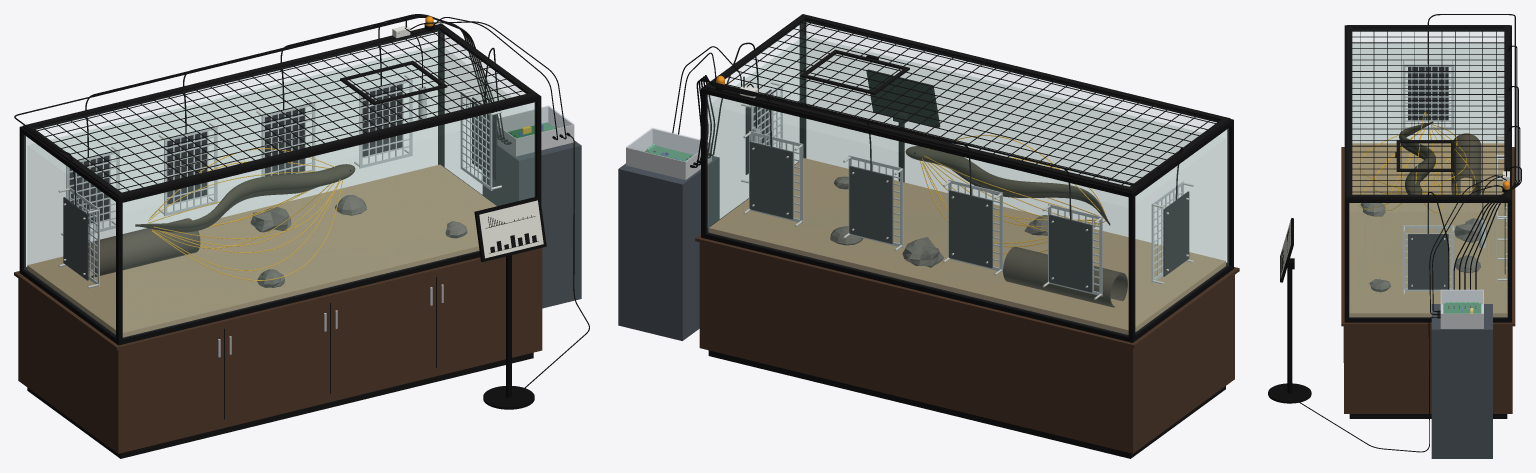
File: eel-habitat-harvester.obj
The picture shows the model from 3 angles, left to right: view 1: azimuth 30°, elevation 25°; view 2: azimuth 150°, elevation 25°; view 3: azimuth 270°, elevation 25°; orthographic projection. The views are drawn at different scales.
Visible parts, largest first — view 1: Habitat.Glass_panels, Habitat.Cabinet, Habitat.Substrate, Habitat.Water, Habitat.Lid_with_feeding_hatch, Habitat.Frame_trims, Electrode_array.Guard_screens, Electrode_array.Graphite_plates_E1-E6, Harvester.Pedestal, Habitat.Hide_tube, Habitat.Plinth_and_door_seams, Cabling.Electrode_leads (+9 smaller); view 2: Habitat.Glass_panels, Habitat.Cabinet, Habitat.Water, Habitat.Substrate, Habitat.Lid_with_feeding_hatch, Electrode_array.Graphite_plates_E1-E6, Harvester.Pedestal, Habitat.Frame_trims, Electrode_array.Guard_screens, Habitat.Plinth_and_door_seams, Habitat.Hide_tube, Cabling.Electrode_leads (+7 smaller); view 3: Habitat.Substrate, Habitat.Glass_panels, Habitat.Cabinet, Habitat.Lid_with_feeding_hatch, Habitat.Water, Harvester.Pedestal, Electrode_array.Graphite_plates_E1-E6, Habitat.Frame_trims, Electrode_array.Guard_screens, Cabling.Electrode_leads, Loads__right_purposes_.Education_display.Display_stand, Habitat.Hide_tube (+11 smaller).
Part boxes in pixels (x1,y1,x2,y2): Habitat.Glass_panels: (24,31,534,336); Habitat.Cabinet: (14,243,546,453); Habitat.Substrate: (27,164,496,337); Habitat.Water: (28,45,532,280); Habitat.Lid_with_feeding_hatch: (22,23,537,197); Habitat.Frame_trims: (19,24,541,345); Electrode_array.Guard_screens: (66,79,492,286); Electrode_array.Graphite_plates_E1-E6: (63,84,497,280); Harvester.Pedestal: (482,141,581,308); Habitat.Hide_tube: (88,218,200,277); Habitat.Plinth_and_door_seams: (27,277,533,458); Cabling.Electrode_leads: (14,14,507,205); Habitat.Glass_panels: (707,21,1228,334); Habitat.Cabinet: (695,234,1239,453); Habitat.Water: (709,36,1225,282); Habitat.Substrate: (708,158,1225,334); Habitat.Lid_with_feeding_hatch: (704,14,1230,192); Electrode_array.Graphite_plates_E1-E6: (745,89,1189,292); Harvester.Pedestal: (618,156,719,340); Habitat.Frame_trims: (701,14,1233,342); Electrode_array.Guard_screens: (749,83,1183,296); Habitat.Plinth_and_door_seams: (708,350,1225,458); Habitat.Hide_tube: (1003,246,1127,307); Cabling.Electrode_leads: (693,42,1183,219); Habitat.Substrate: (1349,143,1507,317); Habitat.Glass_panels: (1349,32,1507,316); Habitat.Cabinet: (1341,147,1515,413); Habitat.Lid_with_feeding_hatch: (1347,25,1509,198); Habitat.Water: (1350,43,1506,311); Harvester.Pedestal: (1431,304,1492,458); Electrode_array.Graphite_plates_E1-E6: (1408,67,1505,289); Habitat.Frame_trims: (1344,25,1511,322); Electrode_array.Guard_screens: (1402,64,1497,291); Cabling.Electrode_leads: (1427,14,1521,289); Loads__right_purposes_.Education_display.Display_stand: (1268,258,1311,403); Habitat.Hide_tube: (1451,133,1481,194).
Size of the model in its own units: 3.73 by 1.93 by 1.87.
